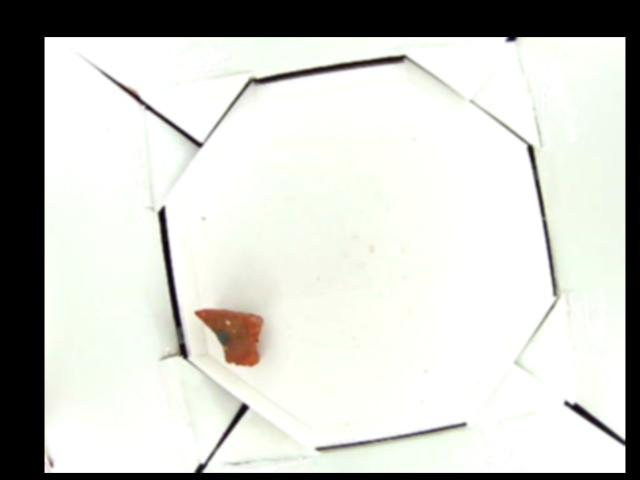Brisk: (190, 307, 263, 366)
